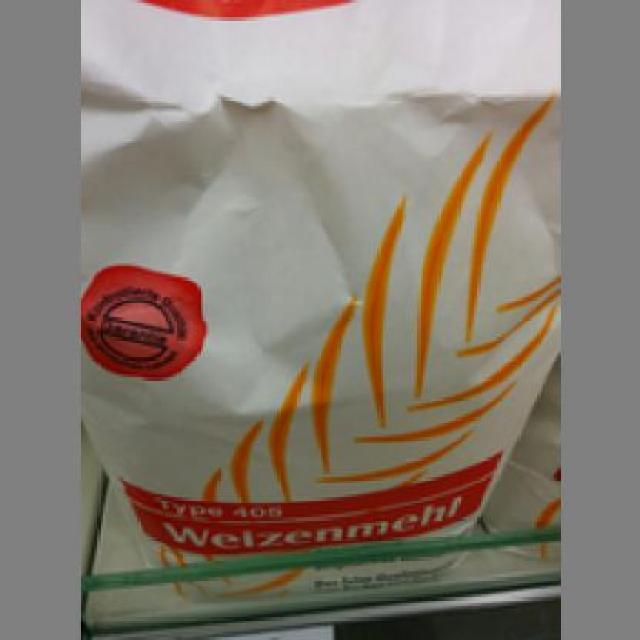Flour: (79, 0, 558, 592)
